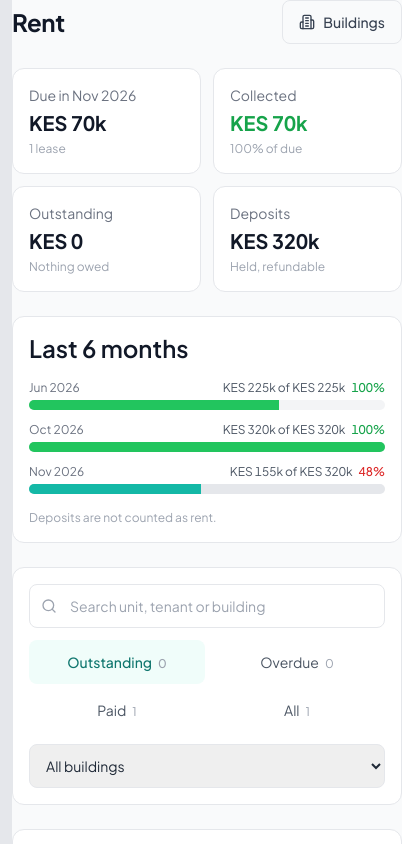
RentCollection › says "Paid" on a settled lease and shows what came in
The width and height of the screenshot is (402, 844).
Click the button "All1": coordinates (297, 710) [209,688,385,732]
(page scrolled)
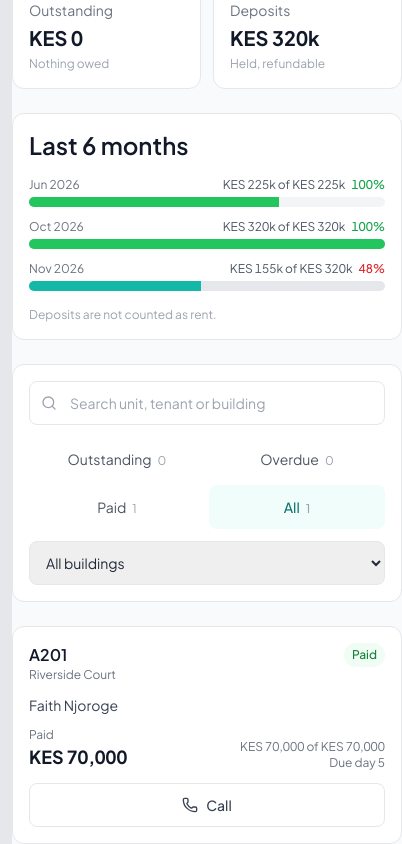
Result: the 2nd text "Paid" is shown at [29,727,54,742]
Result: the text "KES 70,000" is shown at [29,743,127,771]
